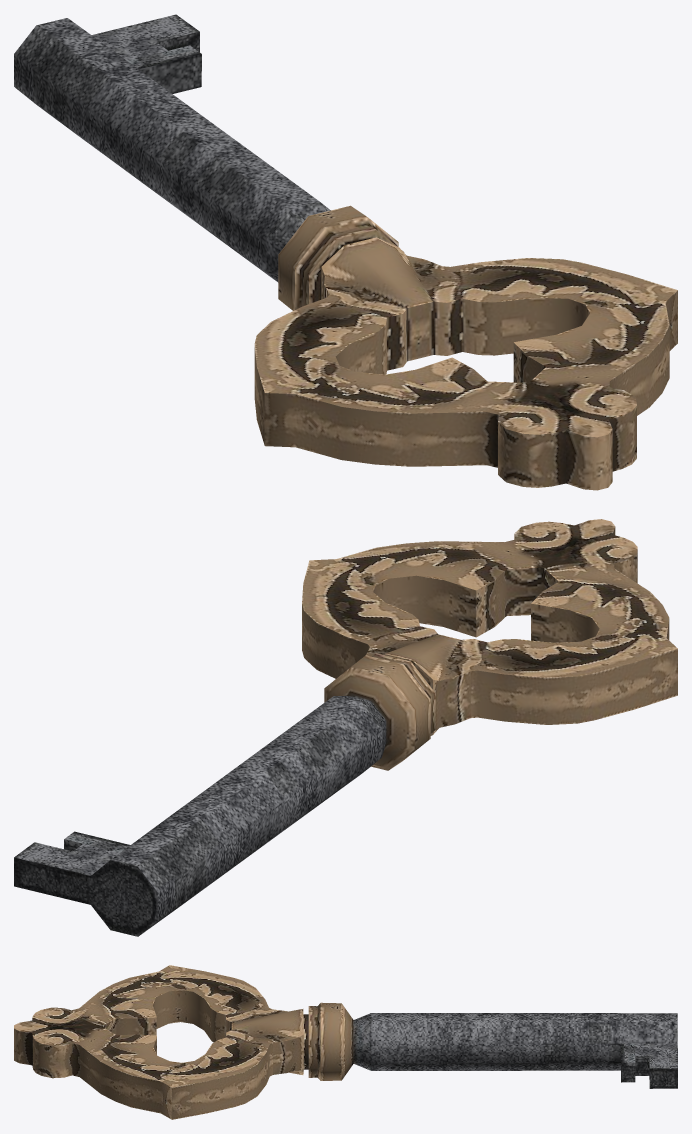
File: key.FBX
The picture shows the model from 3 angles, top to bottom: view 1: azimuth 30°, elevation 25°; view 2: azimuth 150°, elevation 25°; view 3: azimuth 270°, elevation 25°; orthographic projection. The views are drawn at different scales.
Visible parts, largest first — view 1: key; view 2: key; view 3: key.
Part boxes in pixels (bbox=[...]): key: bbox=[14, 14, 677, 490]; key: bbox=[14, 519, 677, 936]; key: bbox=[14, 965, 677, 1119].
Size of the model in its own units: 0.0198 by 0.00495 by 0.0453.
Materials: 1 (1 with a texture image).
